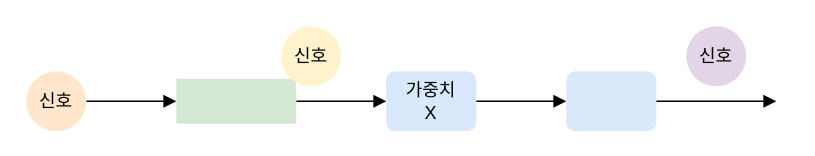
The diagram is 815 pixels wide and 156 high, and some of its shapes have lost their labels. Here are the shapes that lost their labels. From the top down, the centre of each, then its label:
At pixel 236 100: "활성화 함수".
At pixel 611 100: "편향 +".
